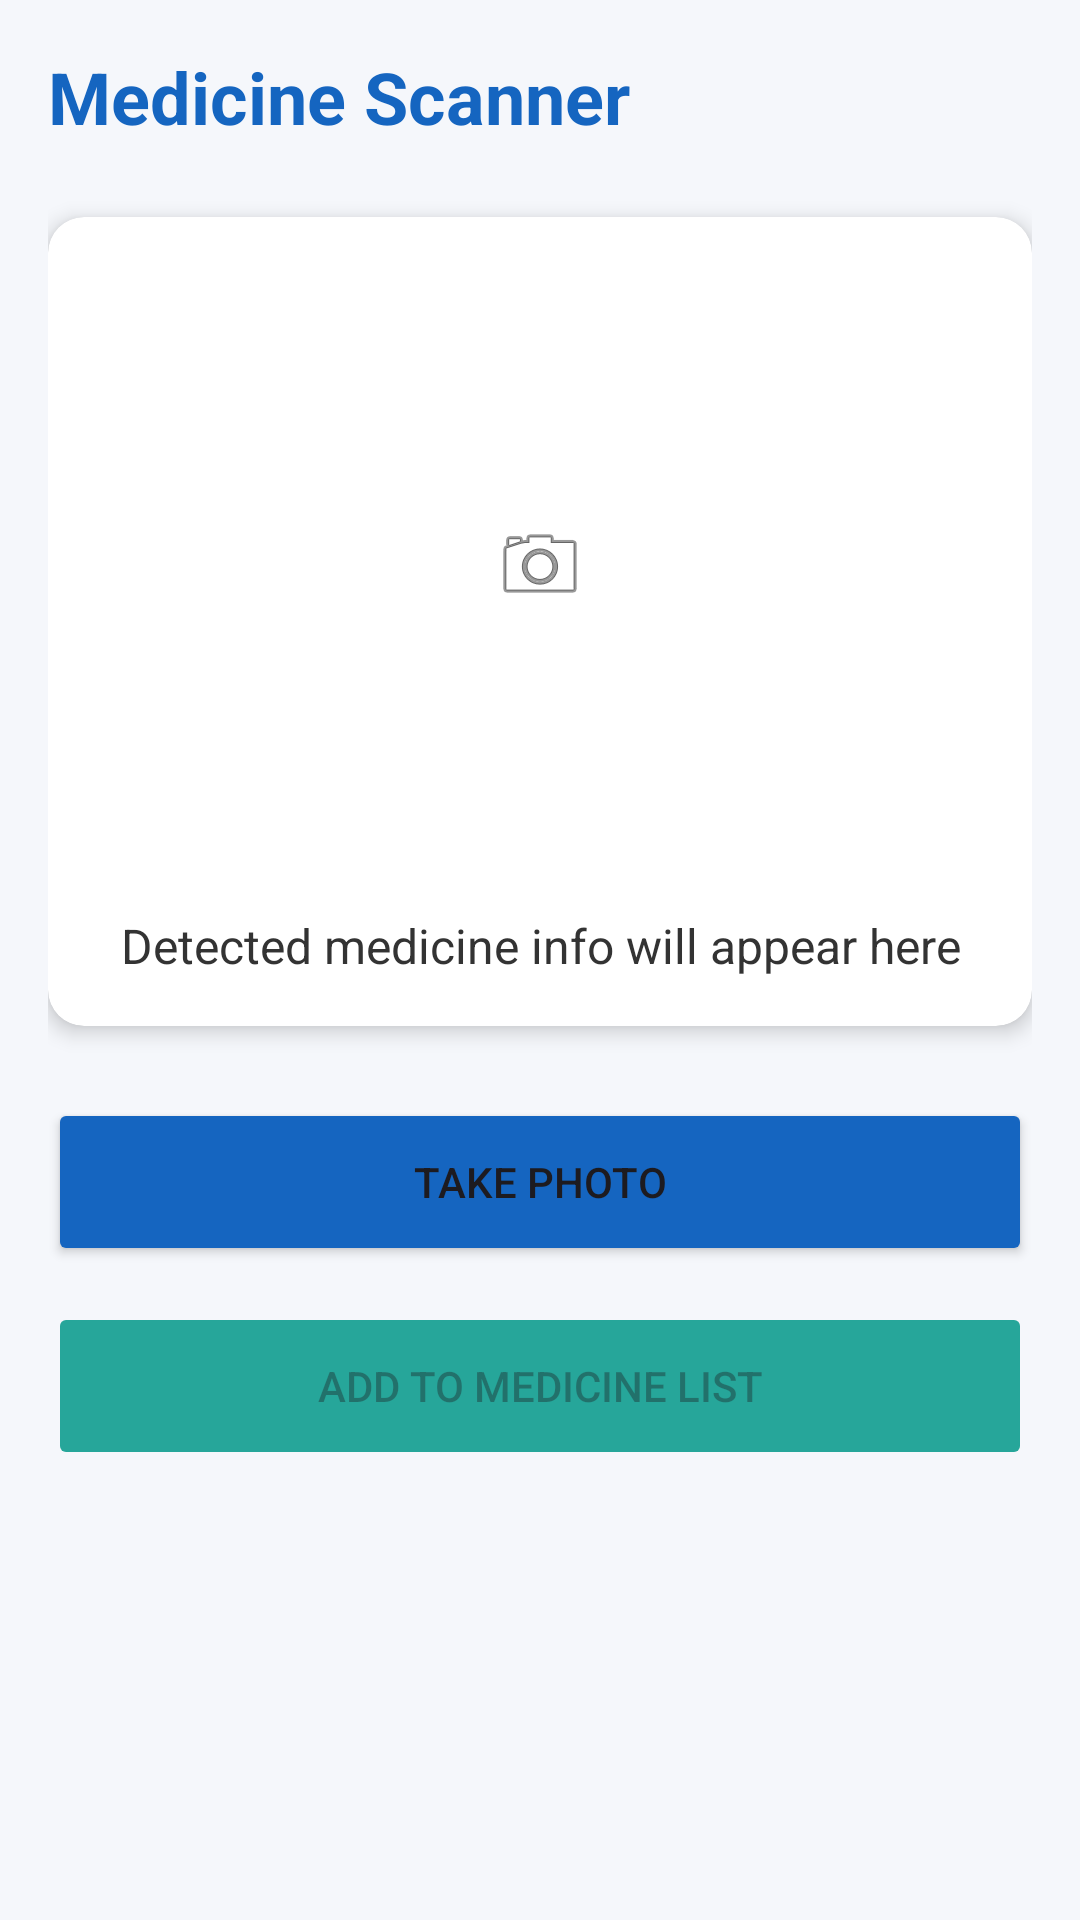

Named icons in this screenshot (1080x1920) and their bounding boxes, (x1, y1, x2, y2):
camera: (503, 534, 577, 593)
